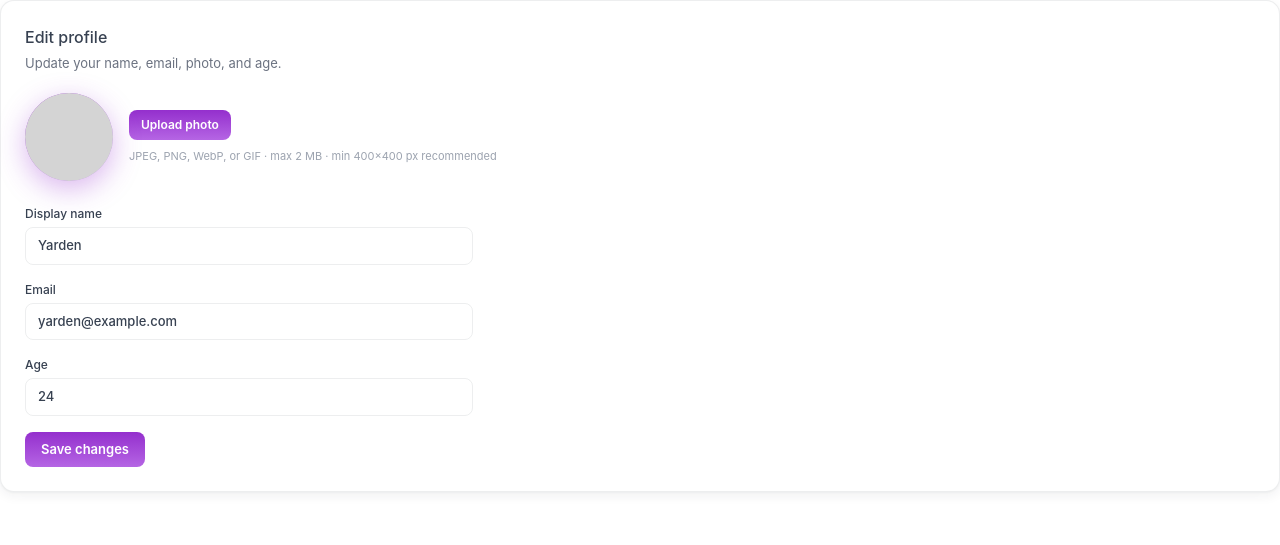
EditProfileForm › surfaces an error message when updateProfile rejects
This screenshot has width=1280, height=545.
Click the button "Save changes" at (85, 449), box [25,432,145,467]
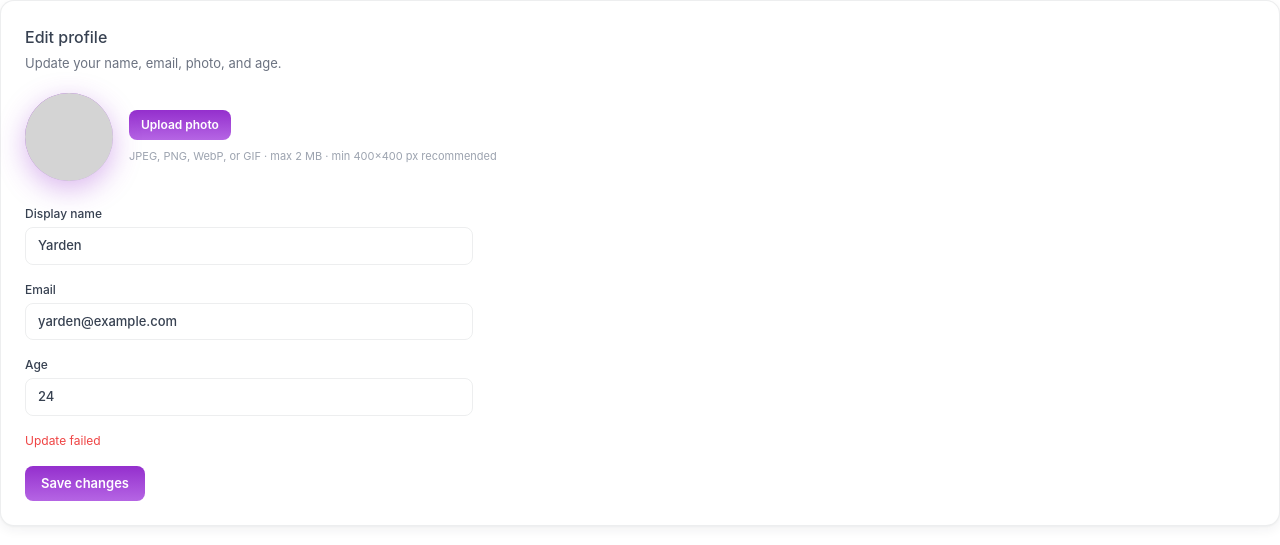
Now the text "Update failed" is shown, box [25,432,101,448]
